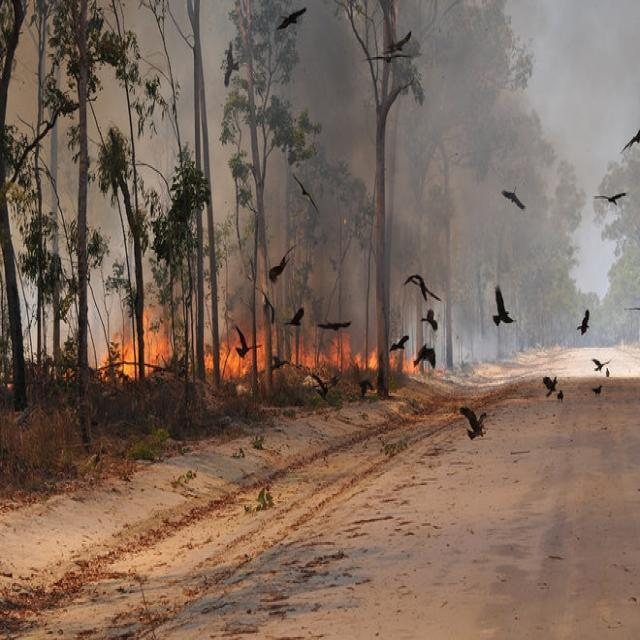Fire: (200, 314, 305, 402), (330, 320, 423, 397), (106, 308, 186, 384)
Smoke: (264, 16, 520, 260)
